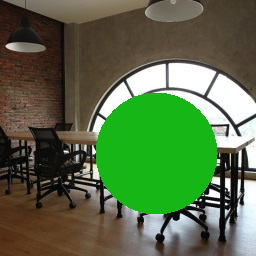focus: (88, 80, 224, 223)
